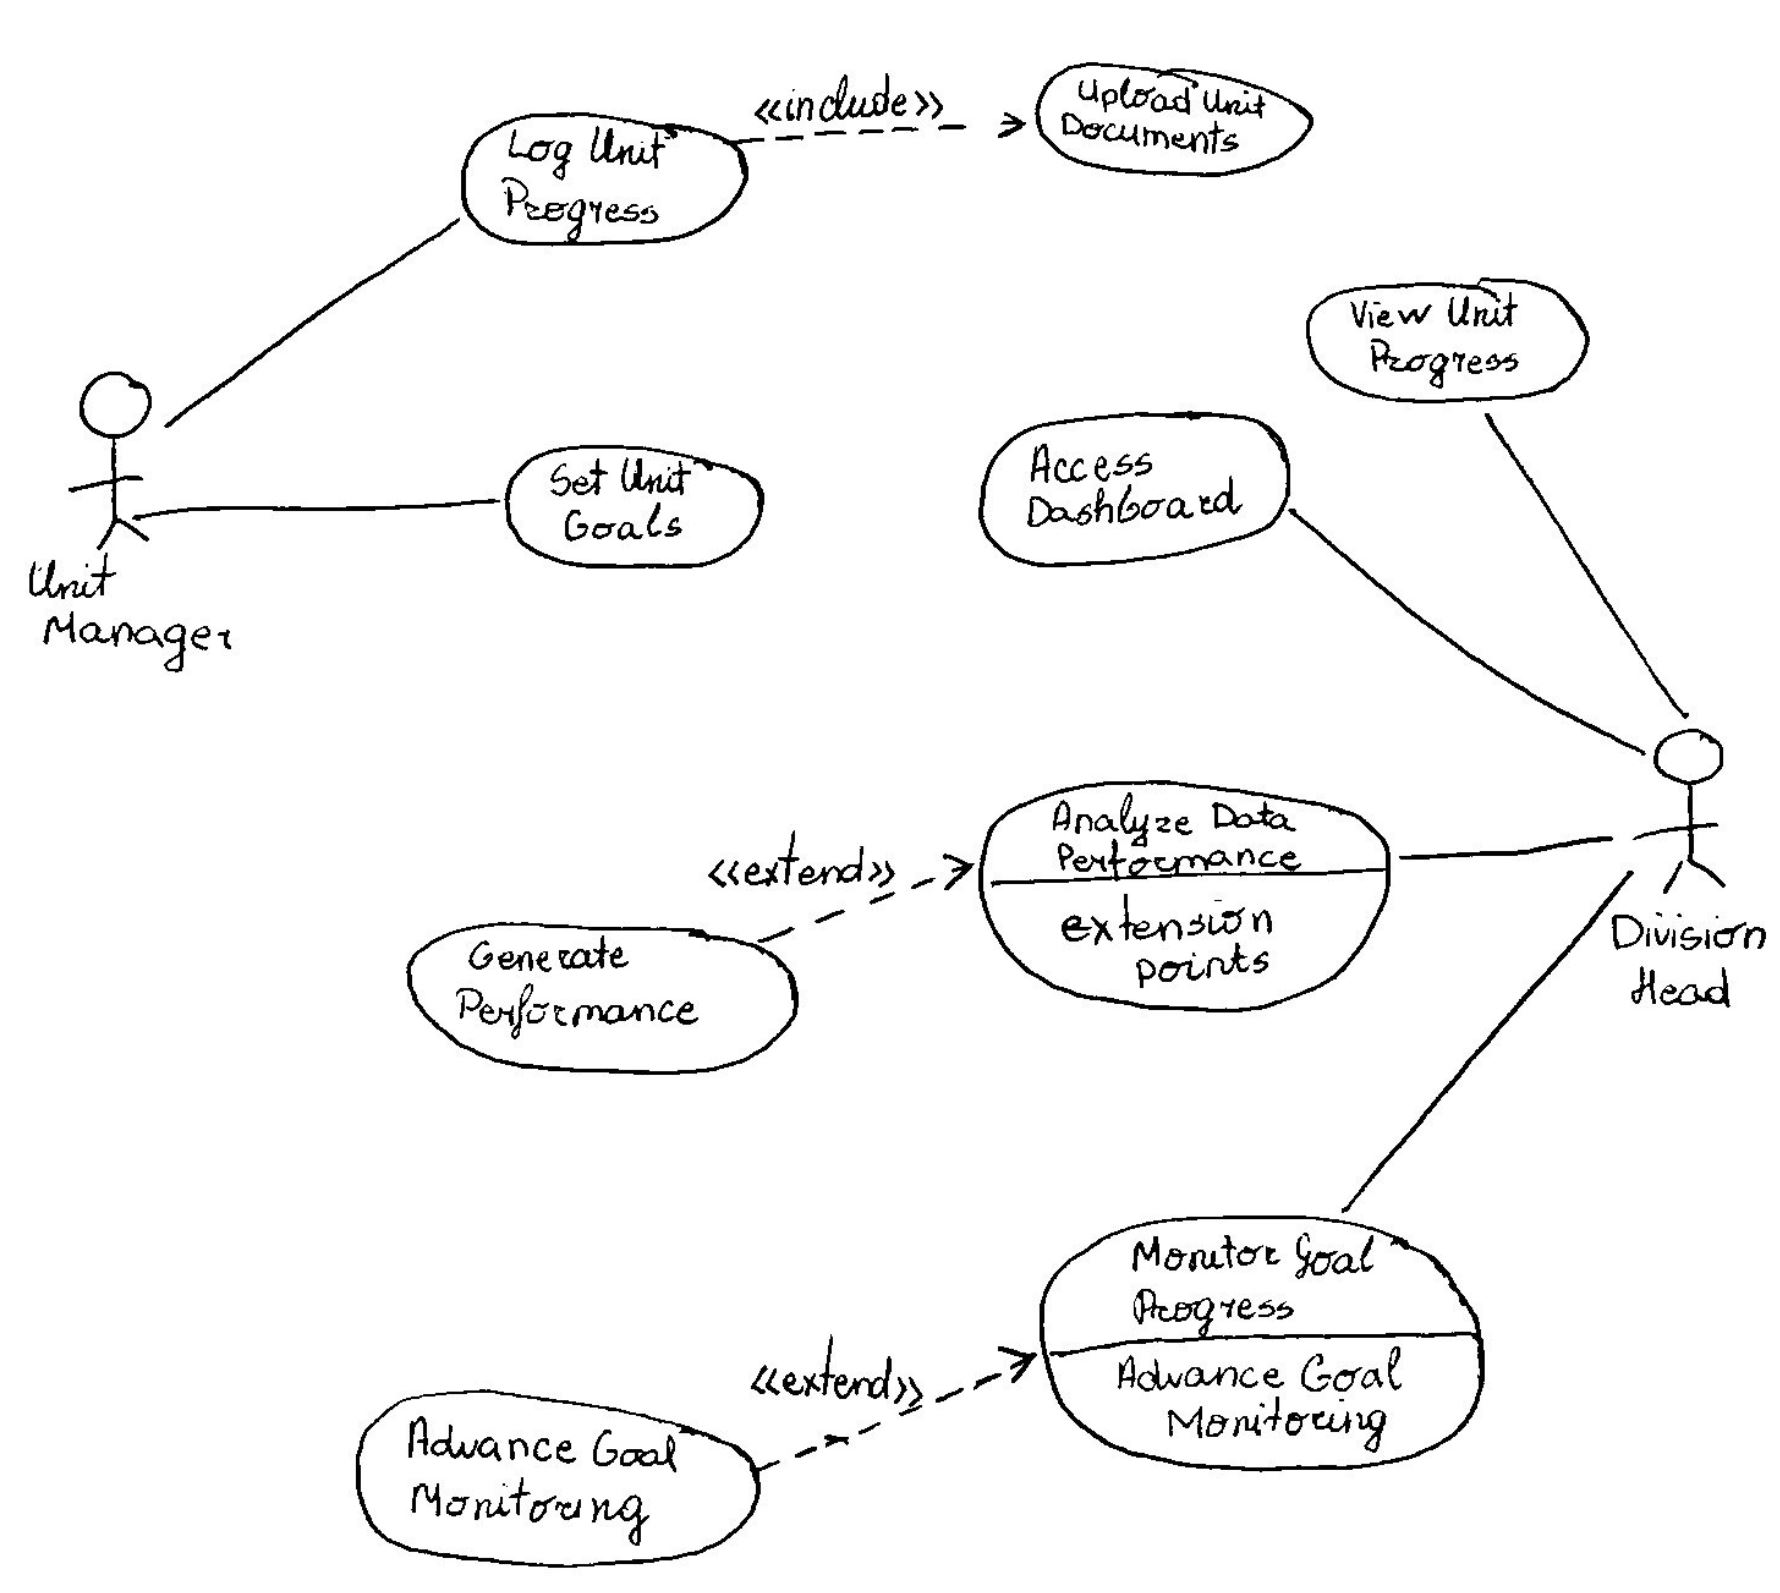actor: (1651, 726, 1746, 895), (68, 371, 154, 554)
association: (1340, 869, 1639, 1213), (1291, 509, 1646, 753), (161, 211, 460, 432), (1483, 409, 1688, 721), (759, 1329, 1041, 1473), (759, 840, 976, 947), (135, 484, 506, 524), (739, 105, 1031, 149), (1400, 823, 1614, 869)
text: (404, 1405, 687, 1545), (1116, 1349, 1410, 1450), (1036, 884, 1290, 993), (1125, 1229, 1380, 1335), (25, 550, 258, 666), (453, 936, 706, 1036), (1044, 795, 1323, 876), (490, 125, 686, 235), (1022, 434, 1254, 524), (1608, 906, 1768, 1026), (1337, 294, 1534, 384), (1064, 72, 1264, 154), (543, 449, 706, 547), (749, 68, 959, 128), (695, 830, 899, 892), (752, 1341, 925, 1408)
use_case: (1041, 1213, 1486, 1472), (976, 777, 1393, 1013), (354, 1388, 762, 1568), (404, 921, 796, 1075), (979, 411, 1290, 570), (457, 111, 750, 251), (1303, 281, 1589, 407), (506, 443, 764, 574), (1038, 62, 1317, 177)
